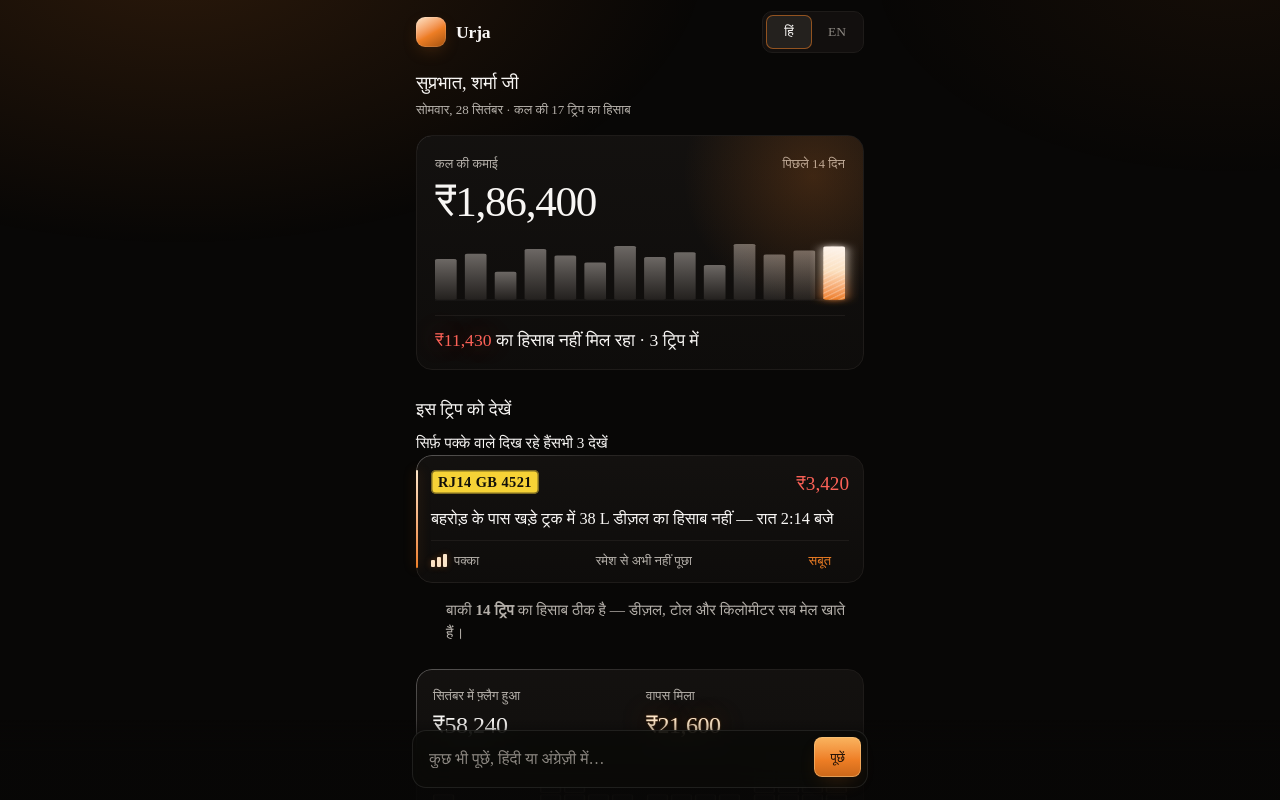
Test: Brief › switches copy, lang, title, aria-labels and the URL with the toggle
Click the button "EN": x=837, y=32 top-left (814, 15), bottom-right (860, 49)
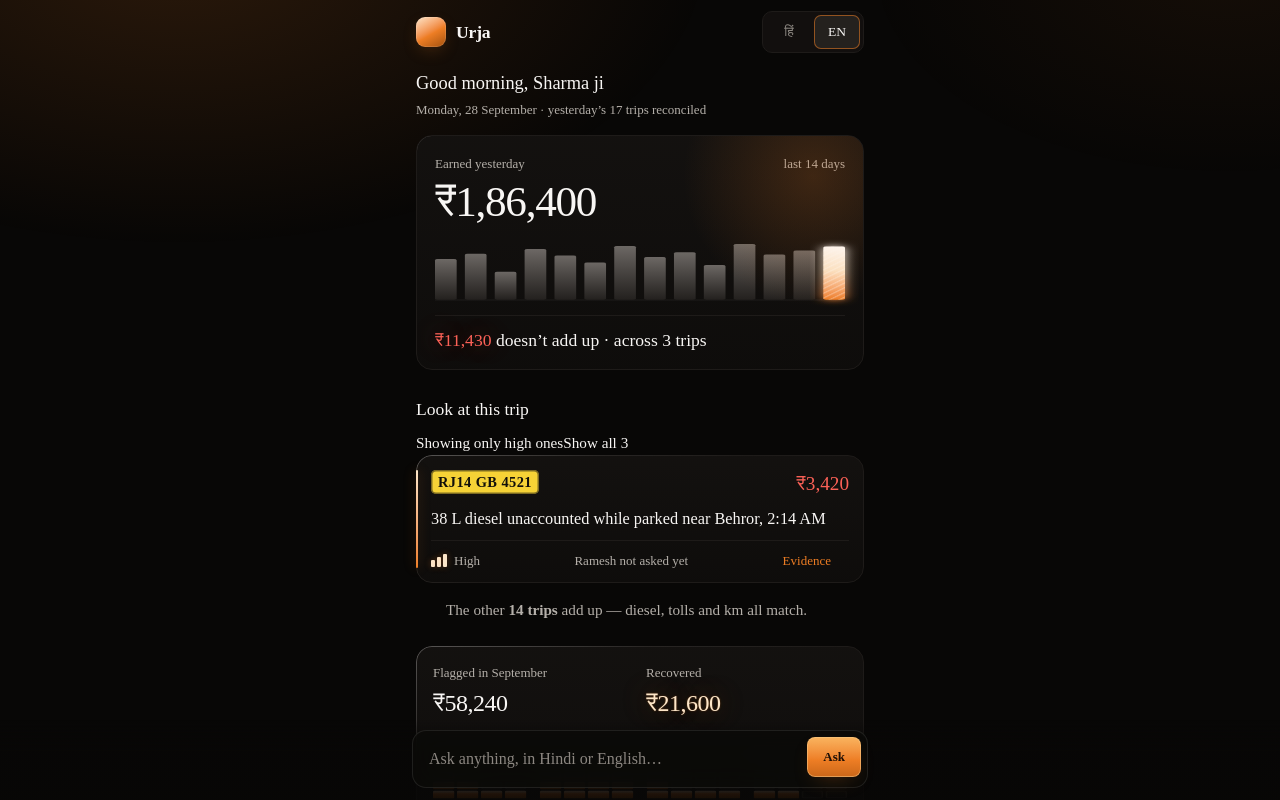
Expected: the text with class "greet" reads "Good morning, Sharma ji", top-left (416, 73), bottom-right (604, 93)
Click the button "हिं": x=789, y=32 top-left (766, 15), bottom-right (812, 49)
(page scrolled)
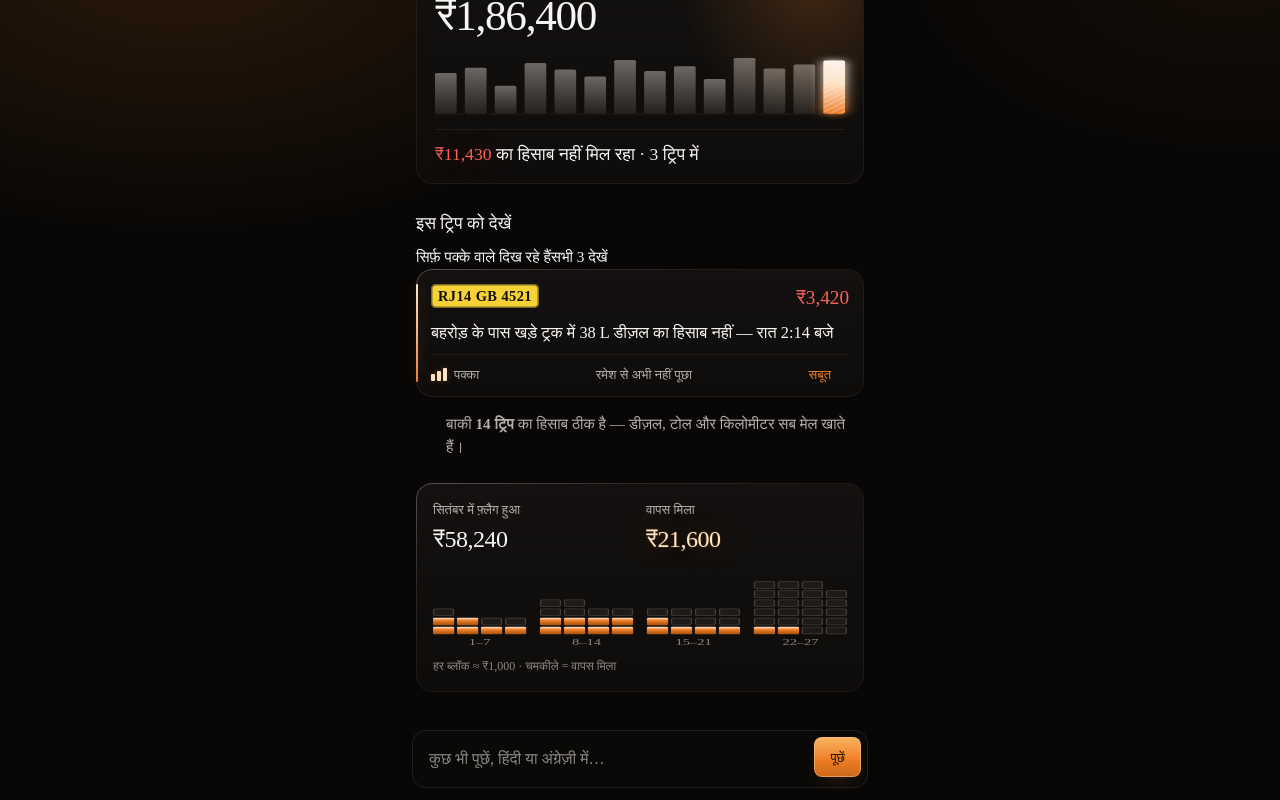
Expected: the element named "सितंबर अब तक" is shown, top-left (416, 483), bottom-right (864, 692)
